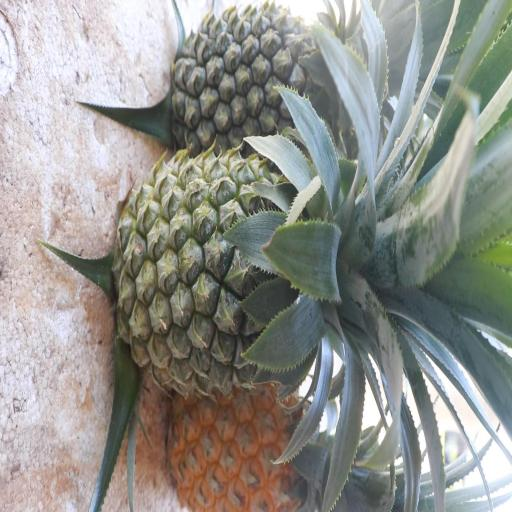------------------------------: (117, 162, 357, 391)
Pineapple - v8 v1: (172, 375, 332, 512)
